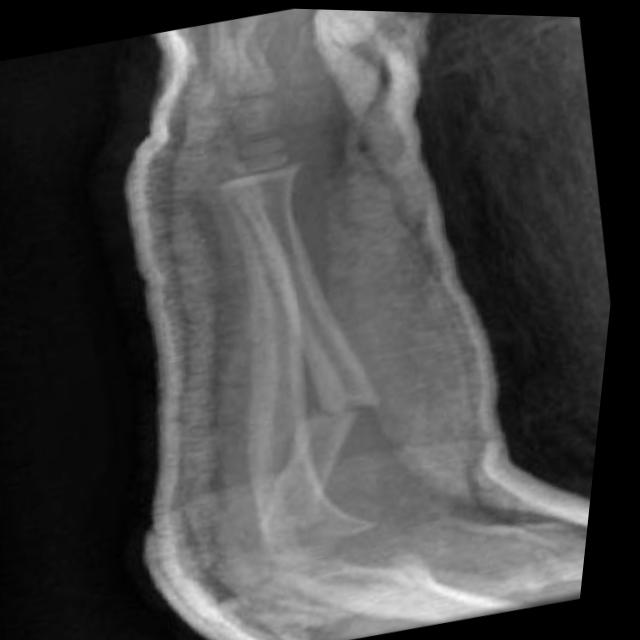fracture: (294, 379, 410, 437)
